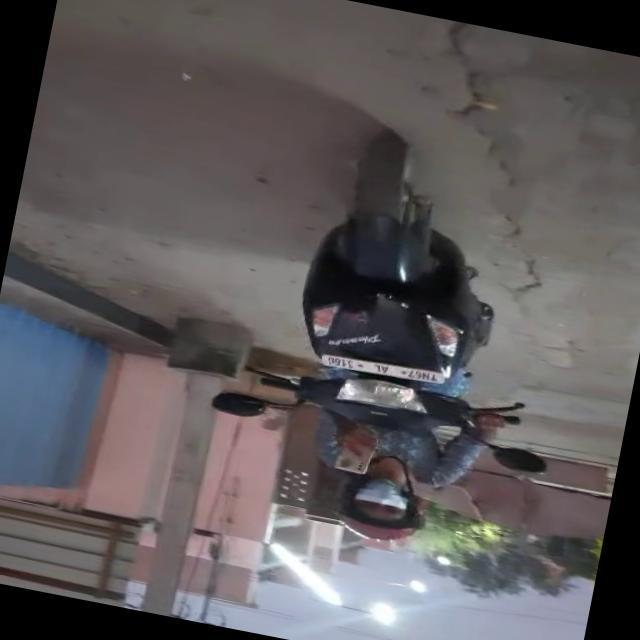USING_MOBILE: (304, 419, 436, 550)
